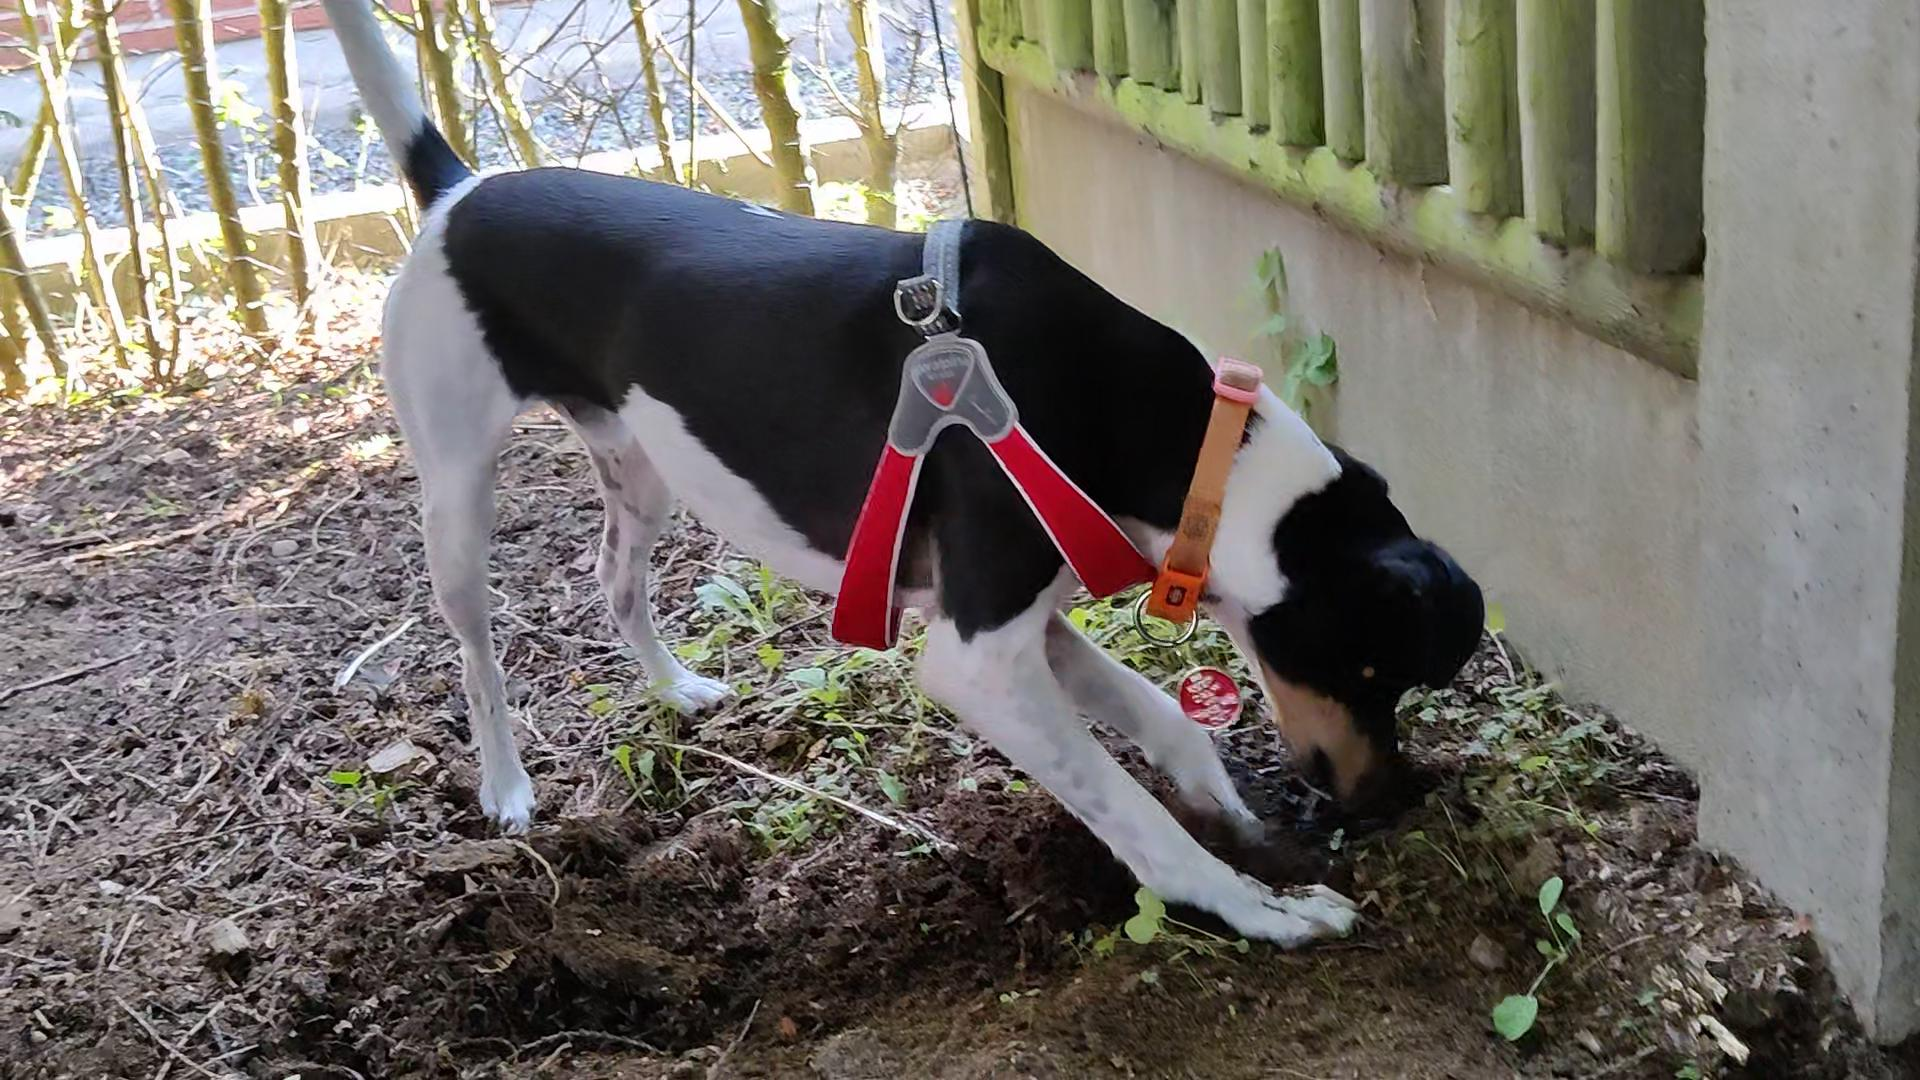Dog: (297, 0, 1520, 959)
